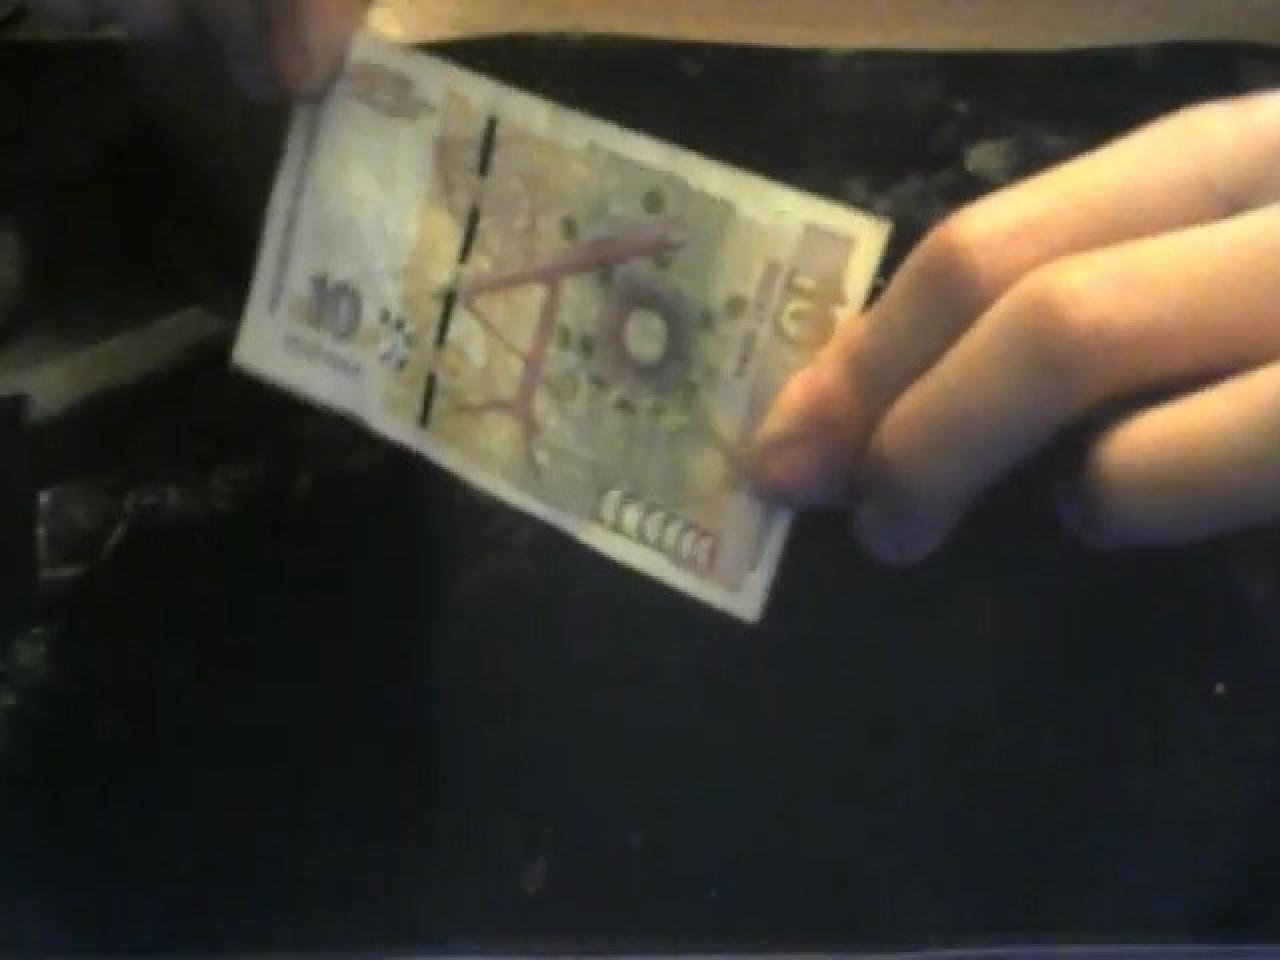10leva: (232, 42, 894, 629)
